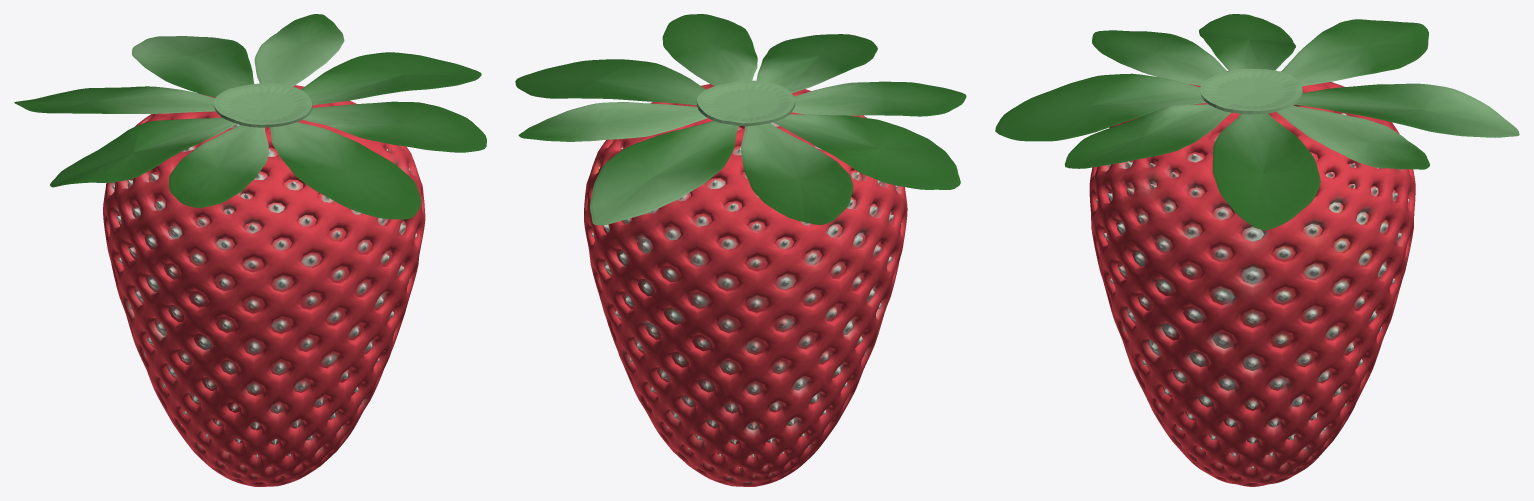
File: strawberry.fbx
3 views of the same model, side by side, from view 1: azimuth 30°, elevation 25°; view 2: azimuth 150°, elevation 25°; view 3: azimuth 270°, elevation 25° (orthographic). The views are drawn at different scales.
Visible parts, largest first — view 1: Cube; view 2: Cube; view 3: Cube.
Boxes of the visible parts, bbox=[...] form: Cube: bbox=[14, 14, 486, 486]; Cube: bbox=[515, 14, 966, 486]; Cube: bbox=[995, 14, 1519, 486].
Size of the model in its own units: 229 by 190 by 231.
